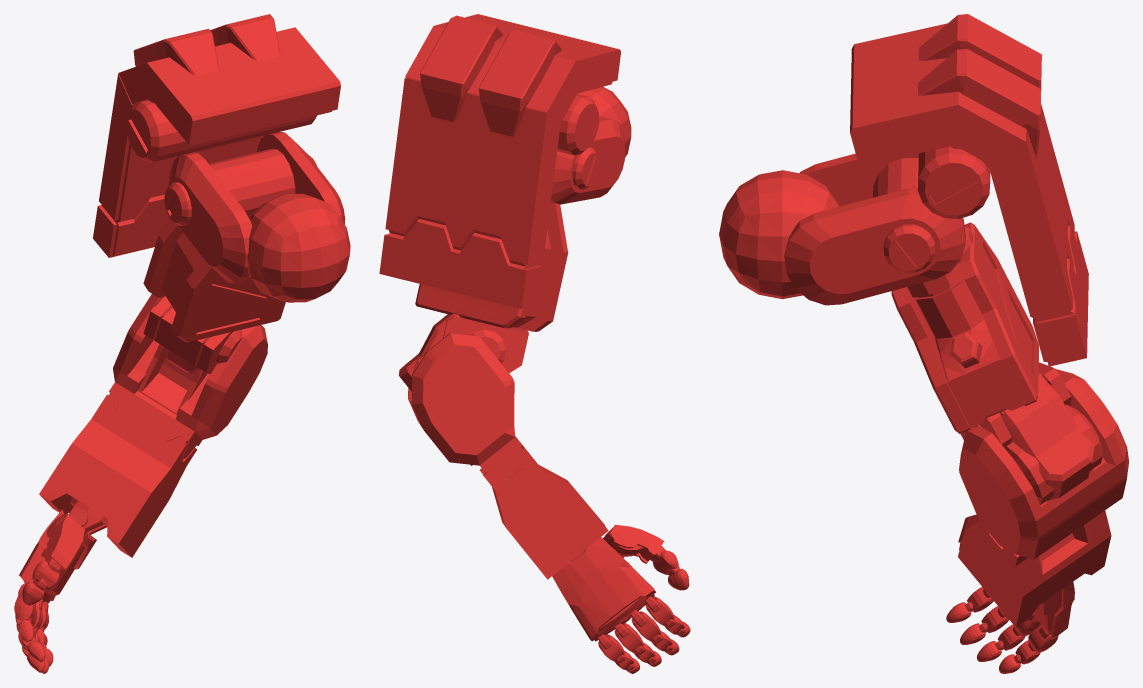
Rendered from left_arm.dae.
3 renders of one model, left to right at view 1: azimuth 30°, elevation 25°; view 2: azimuth 150°, elevation 25°; view 3: azimuth 270°, elevation 25°, orthographic. The views are drawn at different scales.
Visible parts, largest first — view 1: tmp_export_Mesh.004; view 2: tmp_export_Mesh.004; view 3: tmp_export_Mesh.004.
Part boxes in pixels (left/top/right/bottom): tmp_export_Mesh.004: left=14, top=14, right=350, bottom=673; tmp_export_Mesh.004: left=379, top=14, right=690, bottom=673; tmp_export_Mesh.004: left=719, top=14, right=1128, bottom=673.
Size of the model in its own units: 0.1177 by 0.1283 by 0.2479.
